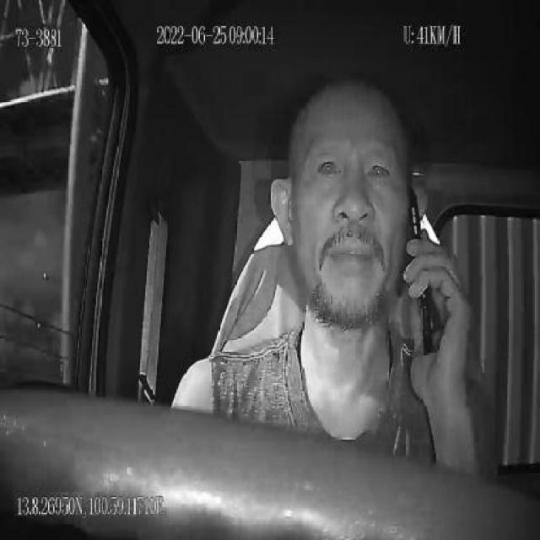phone: (408, 189, 434, 353)
